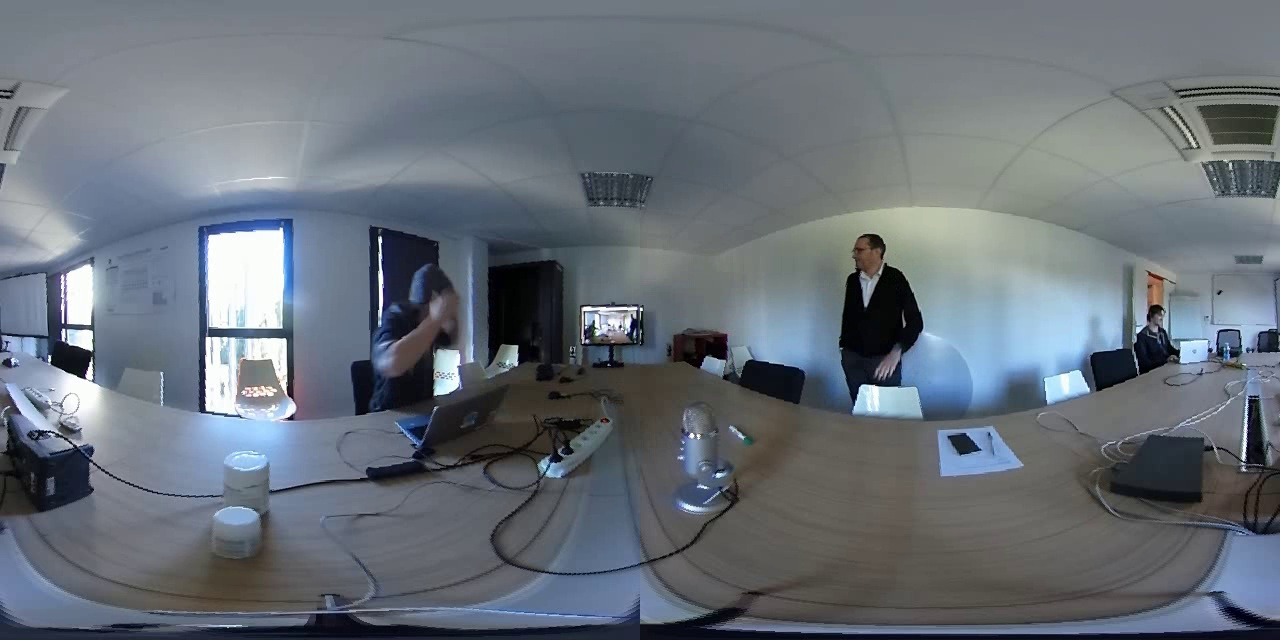person: (371, 256, 468, 392), (835, 229, 920, 382), (1134, 300, 1185, 356)
